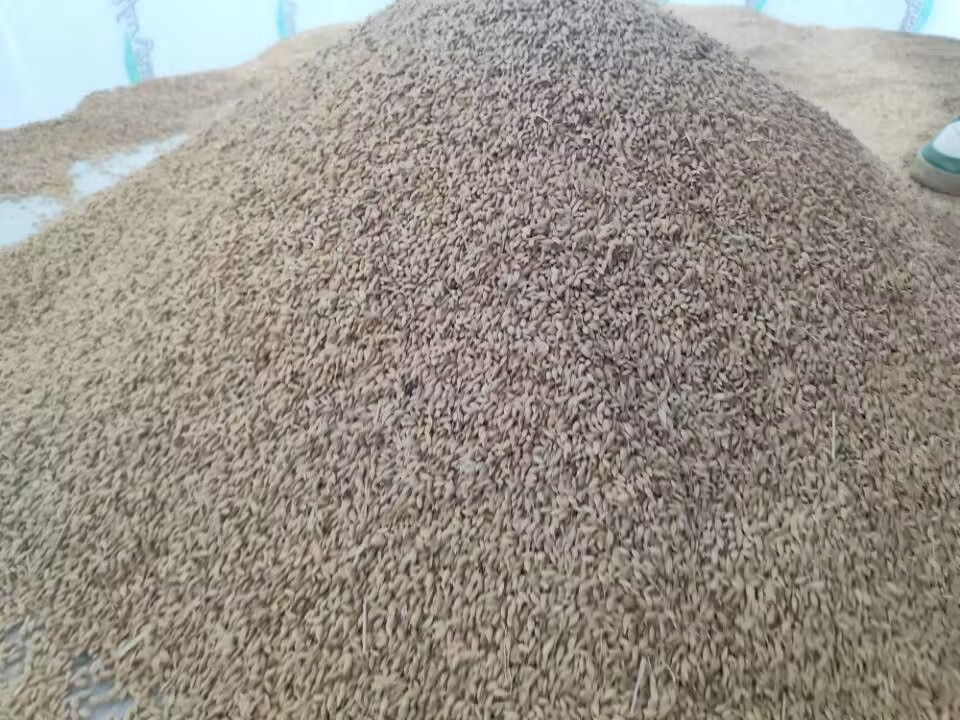Grain: (150, 3, 939, 701)
